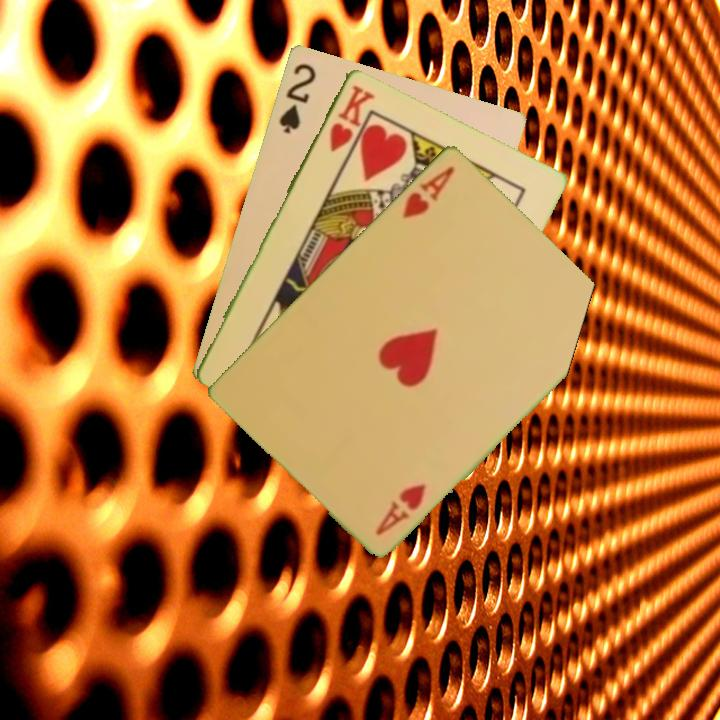2s: (275, 59, 319, 136)
Ah: (398, 162, 458, 221), (371, 479, 429, 538)
Kh: (325, 81, 377, 154)
